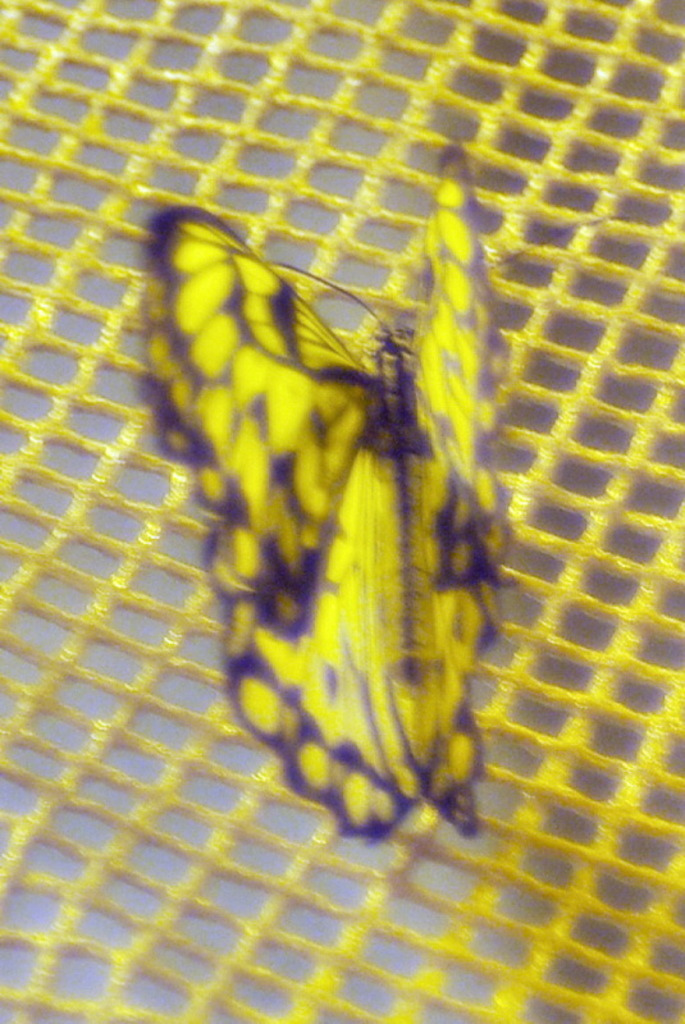Butterfly: (156, 176, 517, 859)
